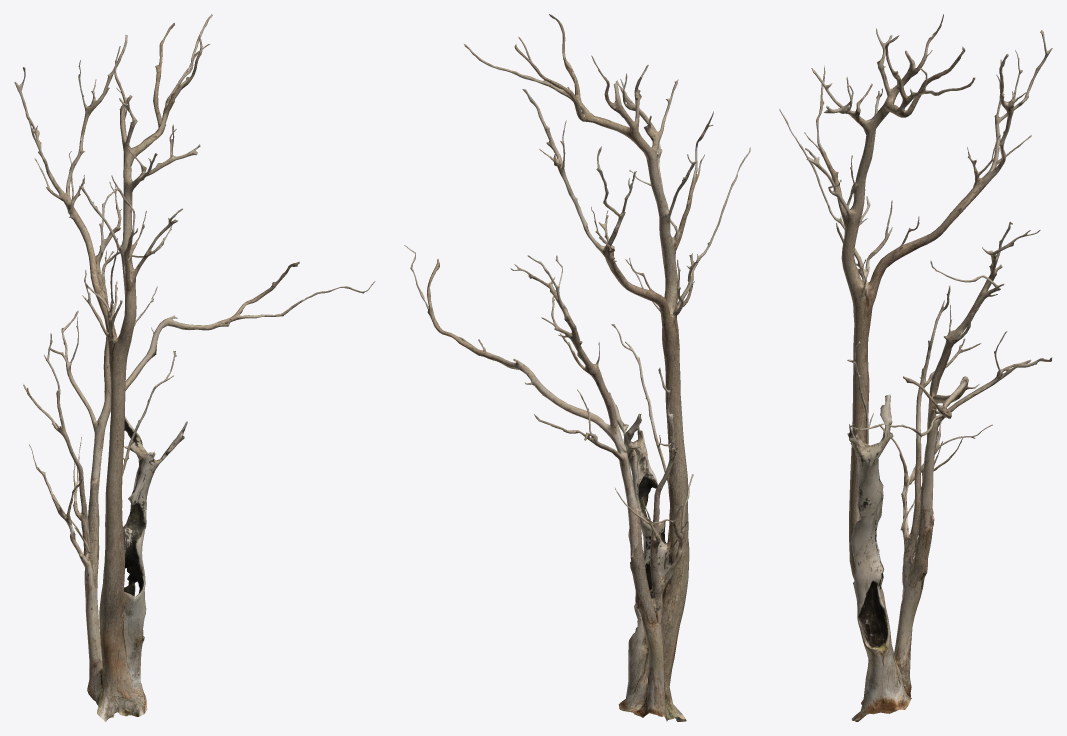
The model's file is tree2.glb.
3 views of the same model, side by side, from view 1: azimuth 30°, elevation 25°; view 2: azimuth 150°, elevation 25°; view 3: azimuth 270°, elevation 25° (orthographic). The views are drawn at different scales.
Parts seen in each view (by area): view 1: rlthg_LOD0_TIER2_000_MatID_1_0; view 2: rlthg_LOD0_TIER2_000_MatID_1_0; view 3: rlthg_LOD0_TIER2_000_MatID_1_0.
Part boxes in pixels (x1,y1,x2,y2): rlthg_LOD0_TIER2_000_MatID_1_0: (14, 14, 375, 721); rlthg_LOD0_TIER2_000_MatID_1_0: (404, 14, 750, 721); rlthg_LOD0_TIER2_000_MatID_1_0: (779, 14, 1052, 721).
Size of the model in its own units: 4.26 by 8.81 by 2.99.
Materials: 1 (1 with a texture image).
